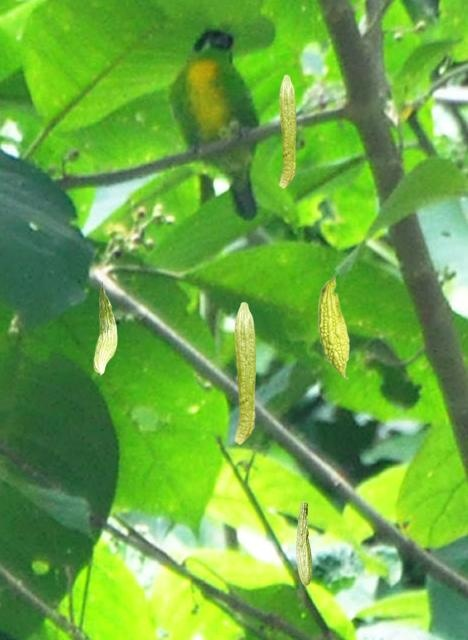ampalaya: (317, 271, 349, 380), (234, 301, 256, 444), (93, 281, 117, 376), (278, 74, 296, 188), (295, 500, 312, 586)
